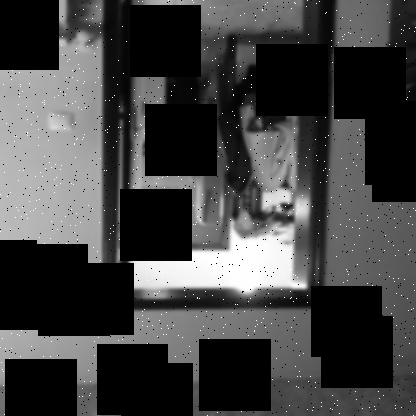Porte: (99, 0, 341, 312)
